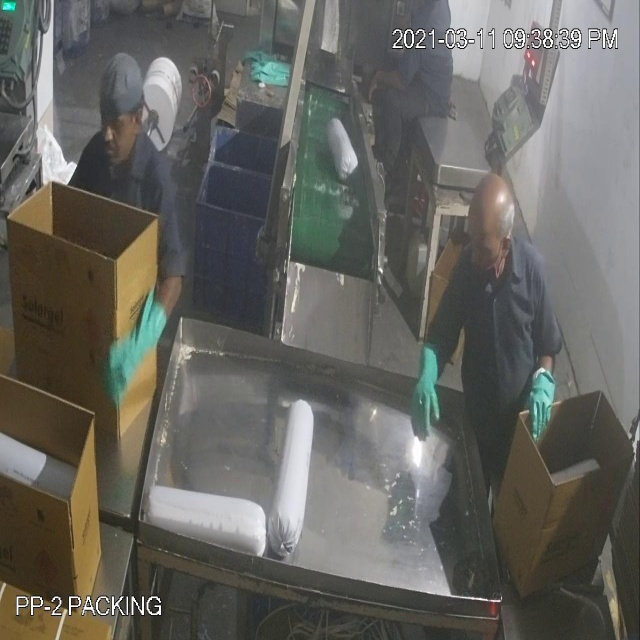Guantes: (514, 360, 563, 449), (411, 328, 444, 450)
Sin_guantes: (361, 54, 412, 120)
